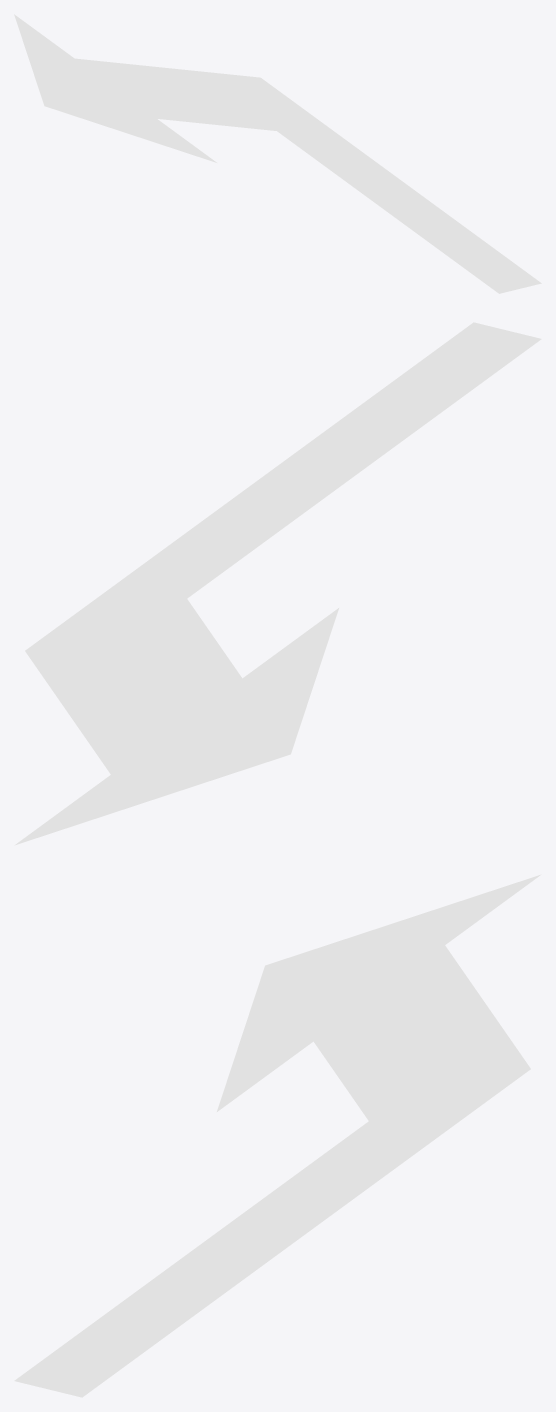
Rendered from Arrow_01_free.fbx.
3 renders of one model, top to bottom at view 1: azimuth 30°, elevation 25°; view 2: azimuth 150°, elevation 25°; view 3: azimuth 330°, elevation 25°, orthographic. The views are drawn at different scales.
Visible parts, largest first — view 1: Arrow_01_free; view 2: Arrow_01_free; view 3: Arrow_01_free.
Part boxes in pixels (box(x1,y1,x2,y2)): Arrow_01_free: box(14, 14, 541, 293); Arrow_01_free: box(14, 322, 541, 845); Arrow_01_free: box(14, 874, 541, 1397).
Size of the model in its own units: 155 by 0 by 571.
